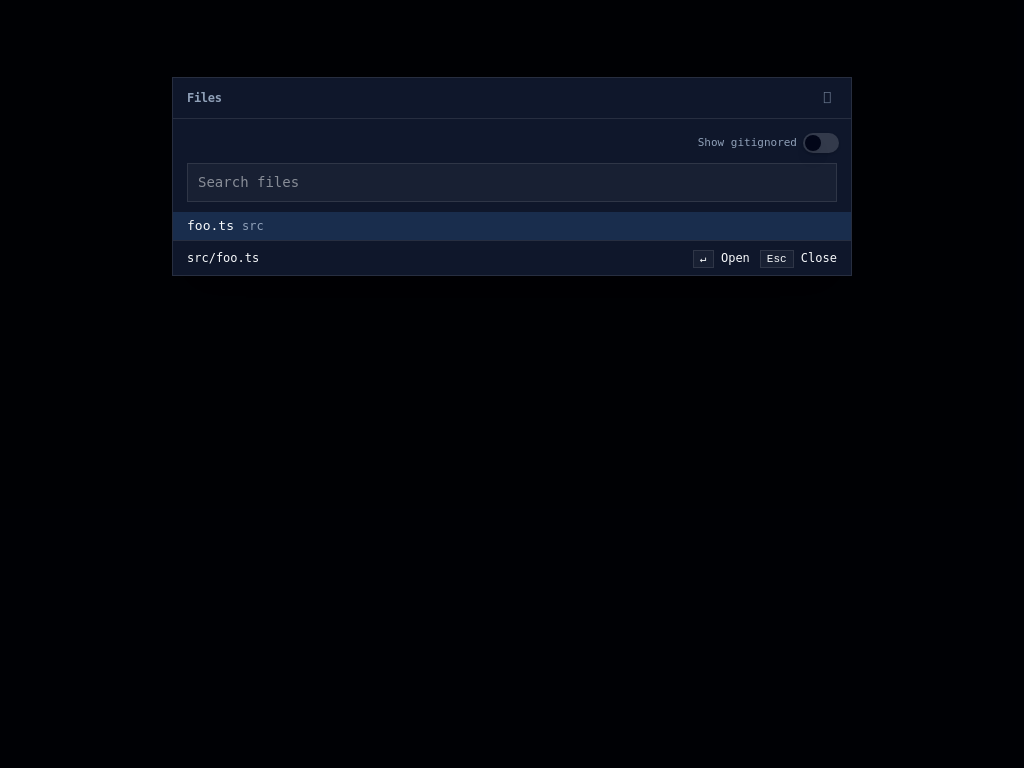
Test: FilesOverlay — search › shows an empty-results message when search matches nothing
The width and height of the screenshot is (1024, 768).
Expected: the text "foo.ts" is shown, [187,216,234,236]
In the field with placeholder "Search files": (512, 182) [187,163,837,202], type "xyz"
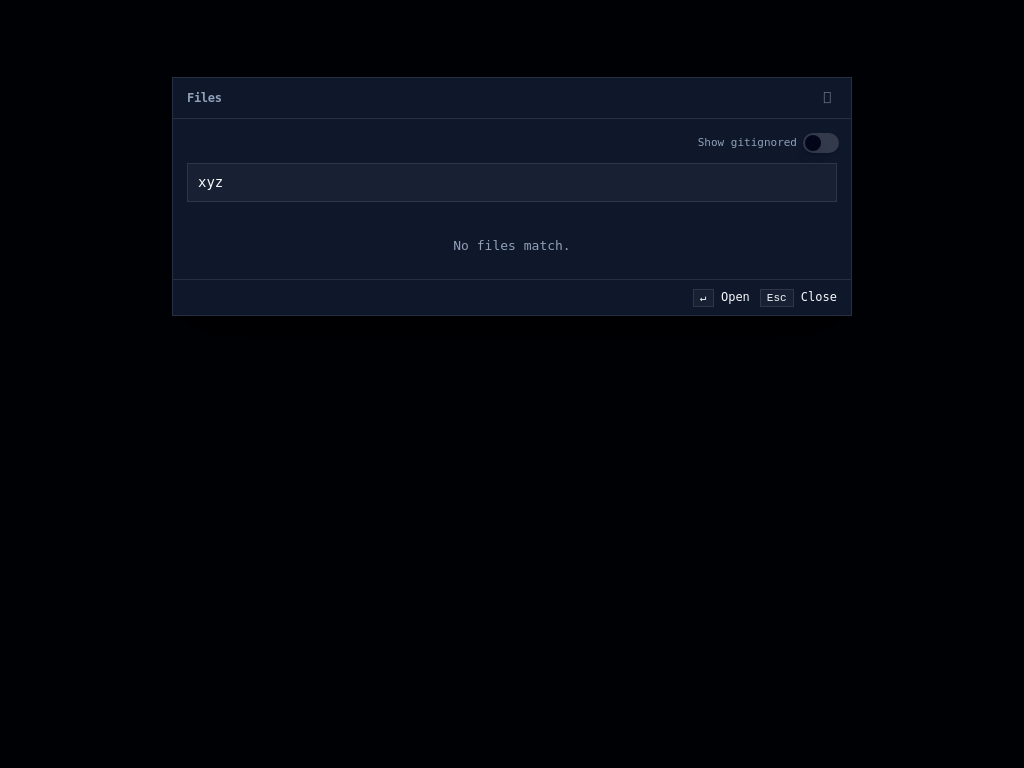
Now the text "No files match." is shown, box [453,238,571,253]
